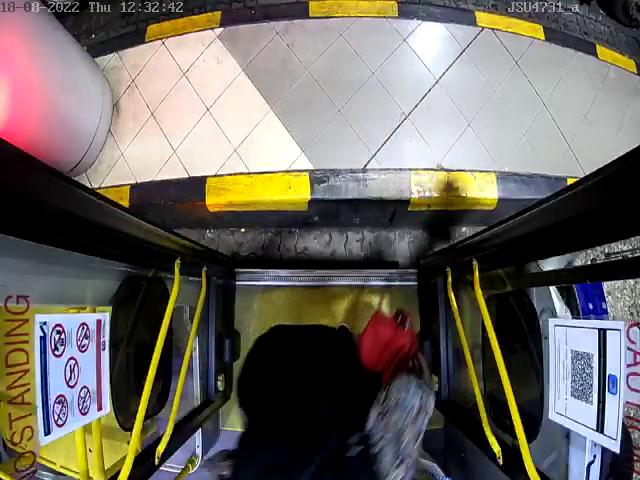open: (0, 0, 640, 166)
